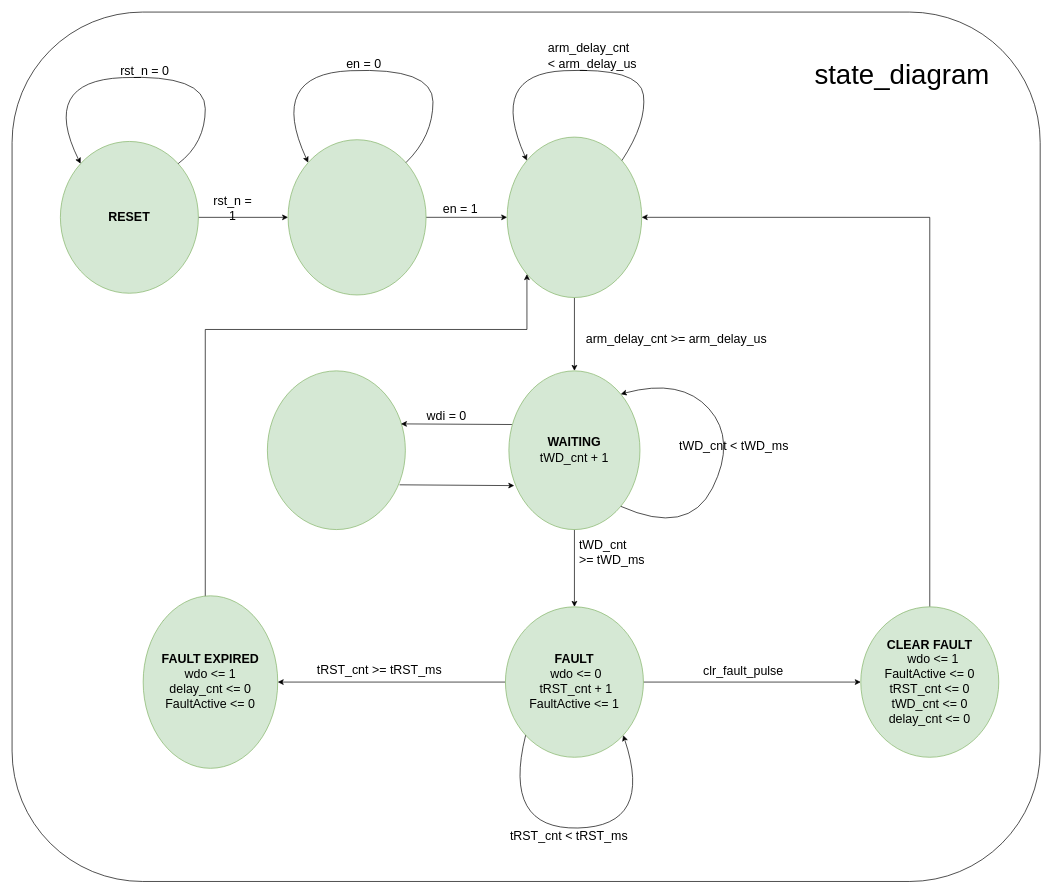
Some shapes in this 1052 by 894 pixel diagram are drawn without their labels. Each missing label, with the centre of its shape:
"ENABLE en_effective <= en_o wdo <= 1 FaultActive <= 0" goes at point 356,217.
"KICK tWD_cnt = 00" goes at point 336,450.
"TRANSITION delay_cnt + 1 wdo = 1 tRST_cnt = 0 tWD_cnt = 0" goes at point 574,217.
